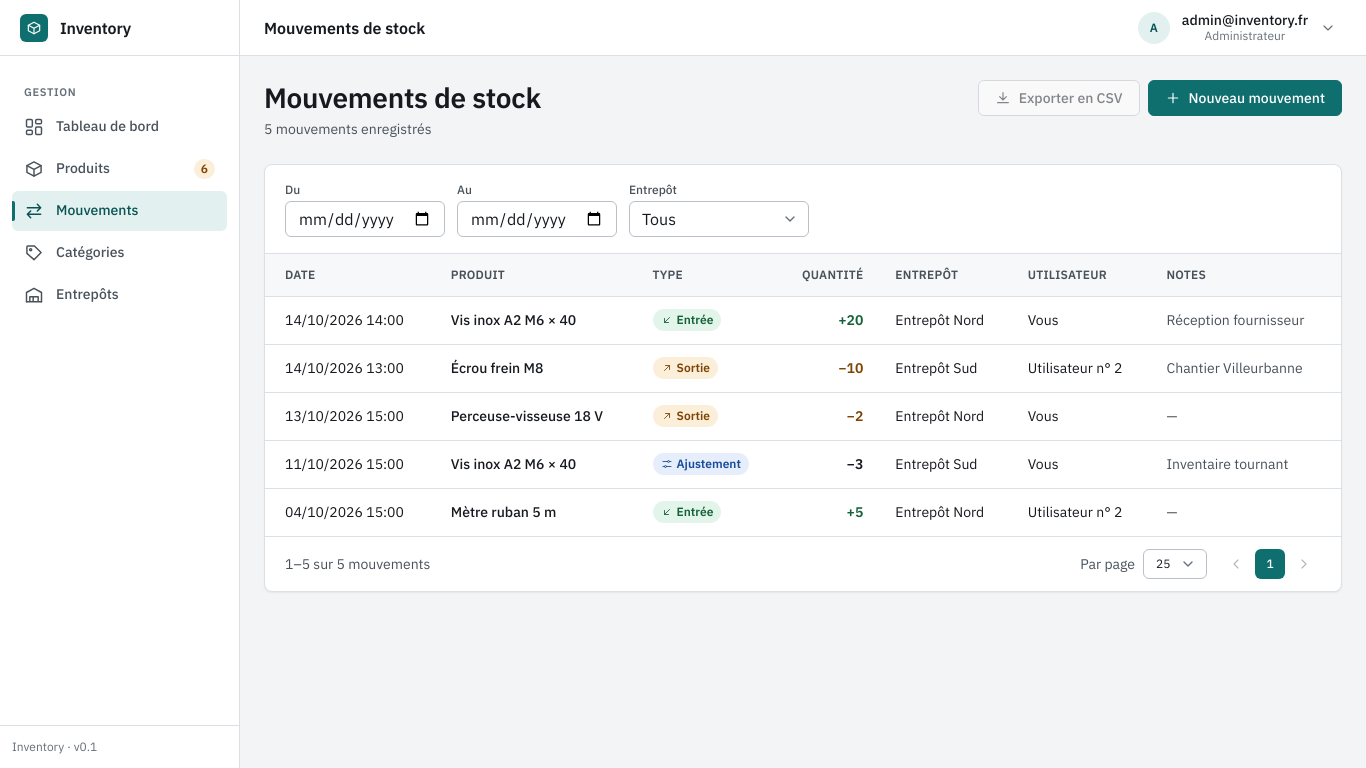
Scenario: MovementsPage › filters by warehouse
Expected: the heading "Mouvements de stock" is shown, [264,80,541,115]
Select "Entrepôt Sud" in the dropdown labelled "Entrepôt": (719, 219) [629,201,809,237]
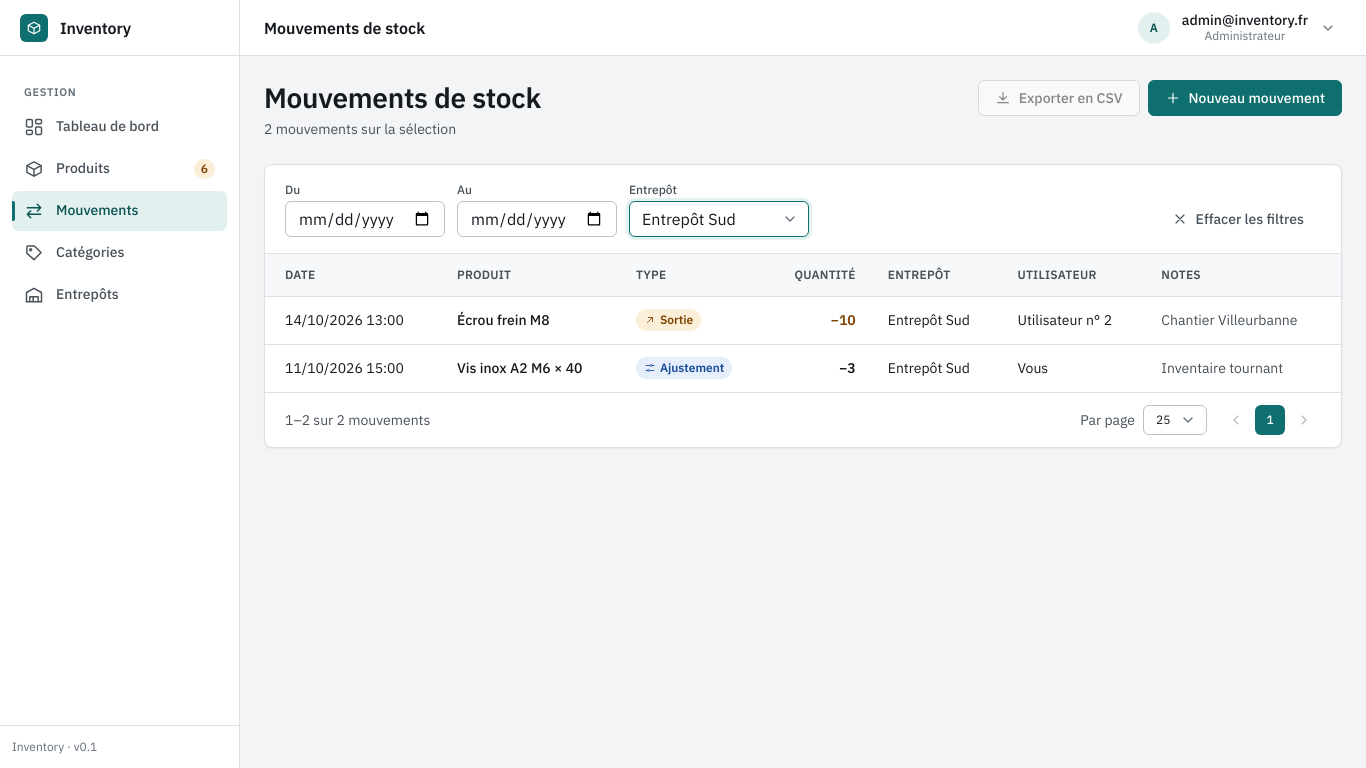
Expected: the text "2 mouvements sur la sélection" is shown, [264,120,456,138]
Select "Tous" in the dropdown labelled "Entrepôt": (719, 219) [629,201,809,237]
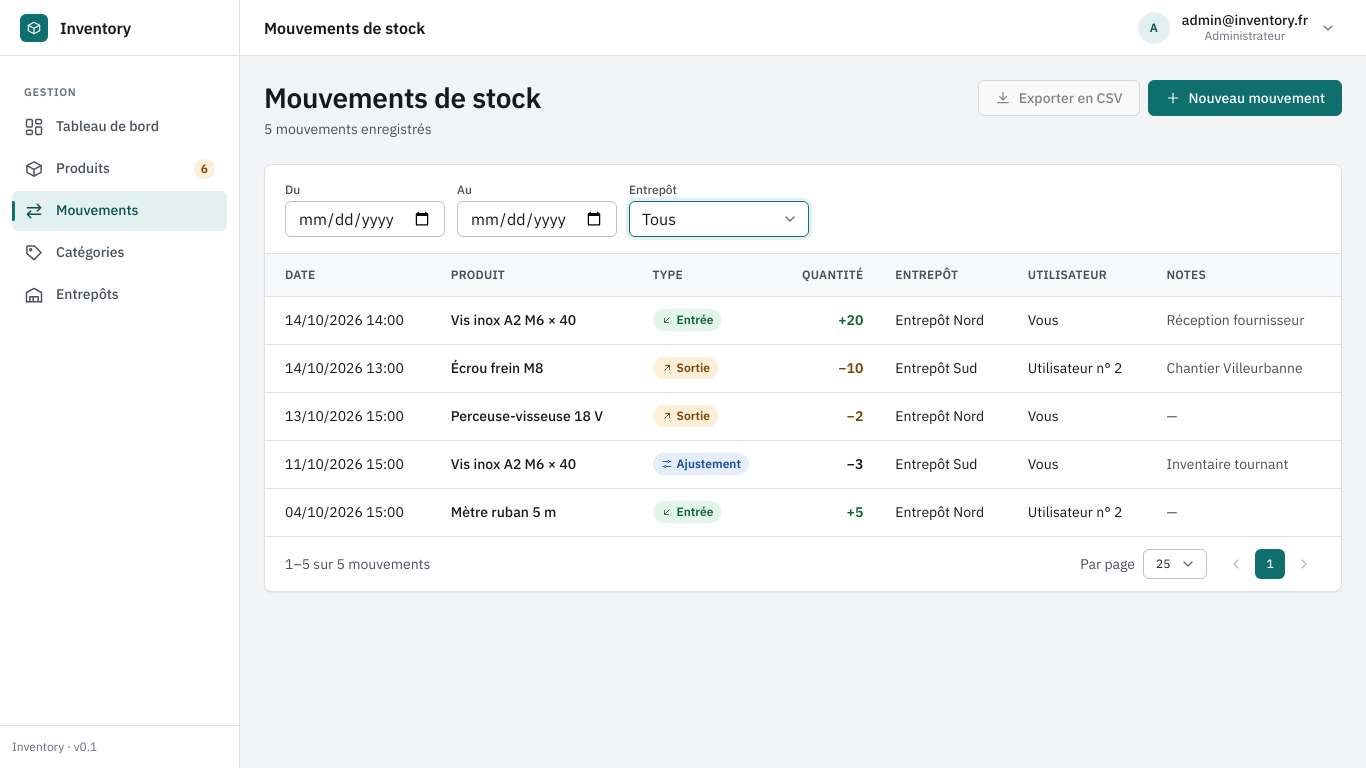
Expected: the text "5 mouvements enregistrés" is shown, [264,120,432,138]
